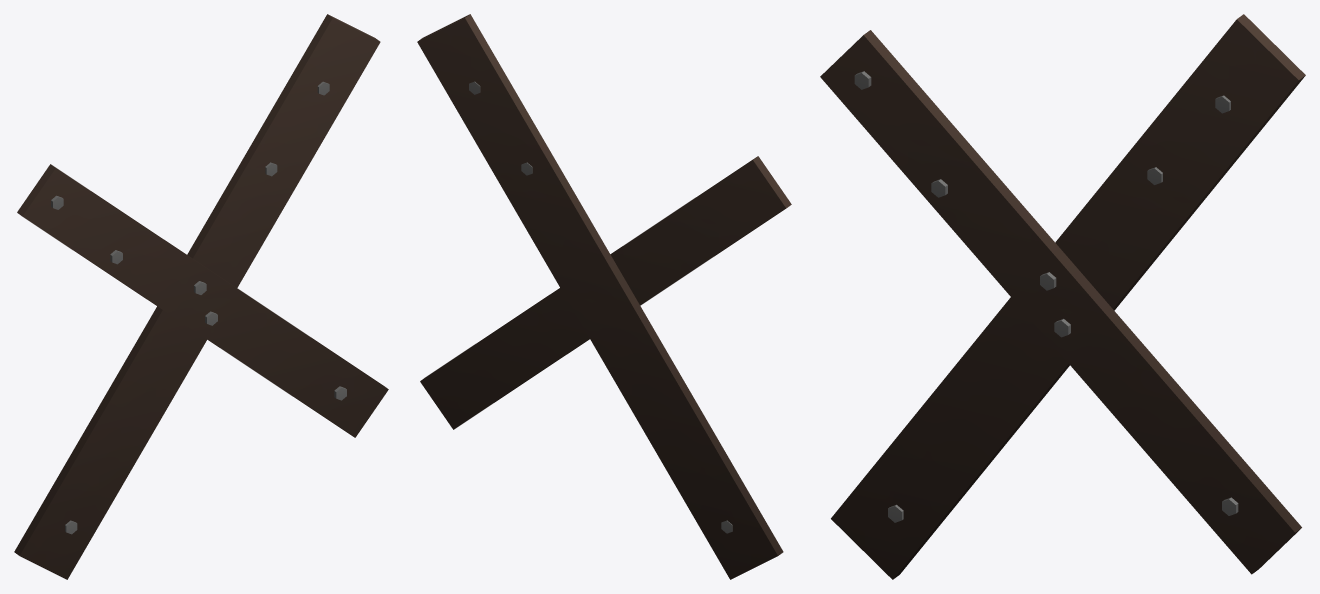
Rendered from Wooden_X.fbx.
3 views of the same model, side by side, from view 1: azimuth 30°, elevation 25°; view 2: azimuth 150°, elevation 25°; view 3: azimuth 330°, elevation 25° (orthographic). The views are drawn at different scales.
Visible parts, largest first — view 1: Cube.088; view 2: Cube.088; view 3: Cube.088.
Boxes of the visible parts, bbox=[...] form: Cube.088: bbox=[14, 14, 388, 579]; Cube.088: bbox=[417, 14, 791, 579]; Cube.088: bbox=[820, 14, 1305, 579].
Bounding box in the file's own units: 2.75 × 3.57 × 0.1731.
